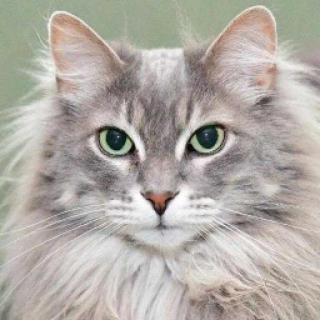cat: (39, 14, 289, 251)
nose: (136, 178, 184, 222)
